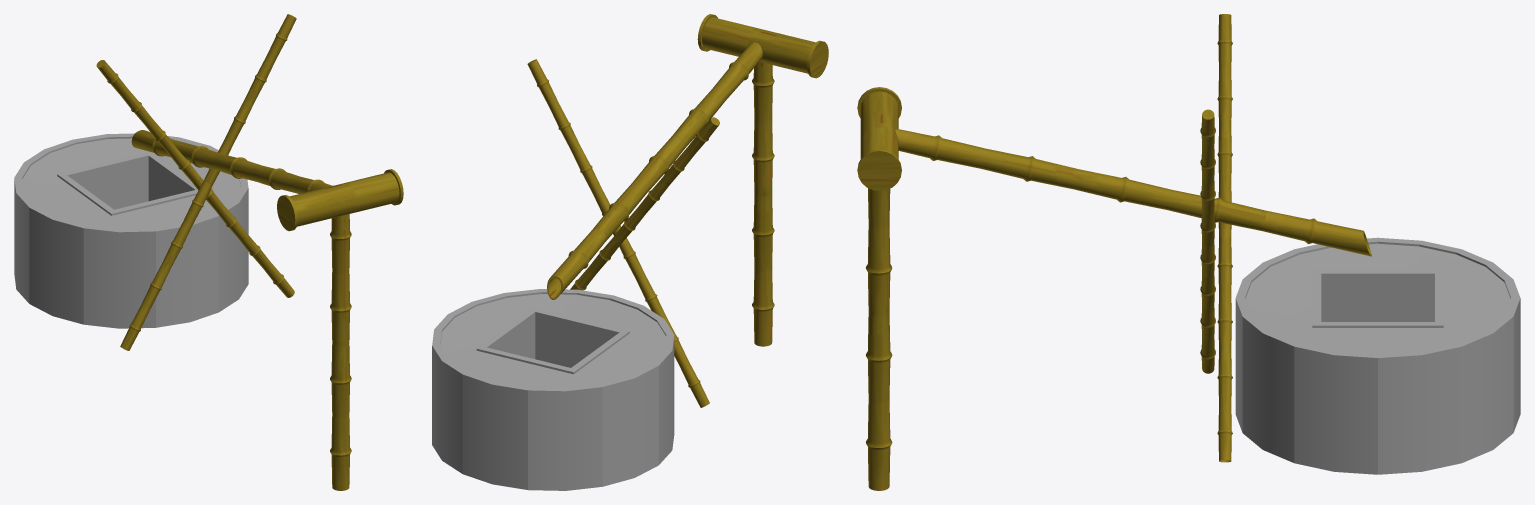
File: la fontaine.fbx
3 views of the same model, side by side, from view 1: azimuth 30°, elevation 25°; view 2: azimuth 150°, elevation 25°; view 3: azimuth 270°, elevation 25° (orthographic). The views are drawn at different scales.
Visible parts, largest first — view 1: foun, bamboo_12; view 2: foun, bamboo_12; view 3: foun, bamboo_12.
Boxes of the visible parts, x1=… form: foun: x1=14, y1=133, x2=248, y2=328; bamboo_12: x1=96, y1=14, x2=403, y2=490; foun: x1=432, y1=289, x2=674, y2=490; bamboo_12: x1=527, y1=14, x2=828, y2=407; foun: x1=1235, y1=237, x2=1520, y2=474; bamboo_12: x1=857, y1=14, x2=1371, y2=490.
Bounding box in the file's own units: 15.23 × 25.15 × 35.45.
